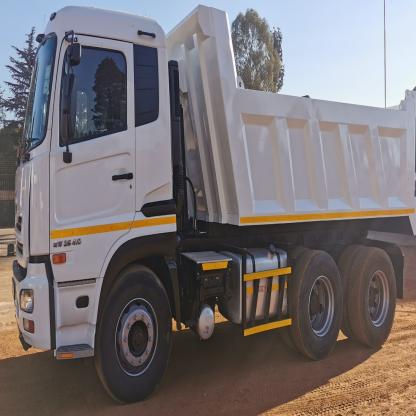dump_truck: (12, 3, 416, 406)
